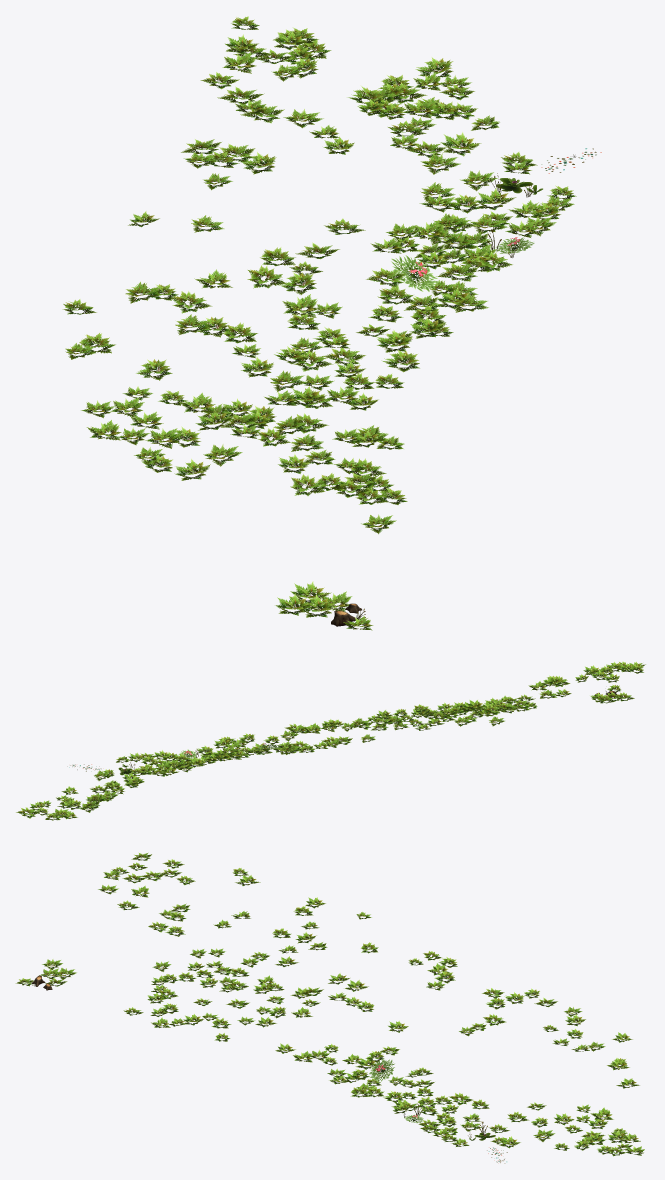
Rendered from Ferns_03.fbx.
3 views of the same model, one above another, from view 1: azimuth 30°, elevation 25°; view 2: azimuth 150°, elevation 25°; view 3: azimuth 270°, elevation 25° (orthographic). The views are drawn at different scales.
Parts seen in each view (by area): view 1: Ferns_03; view 2: Ferns_03; view 3: Ferns_03.
Part boxes in pixels (left/top/right/bottom): Ferns_03: left=62, top=16, right=601, bottom=630; Ferns_03: left=16, top=661, right=645, bottom=820; Ferns_03: left=15, top=852, right=644, bottom=1163.
Size of the model in its own units: 10389 by 2079 by 12177.
